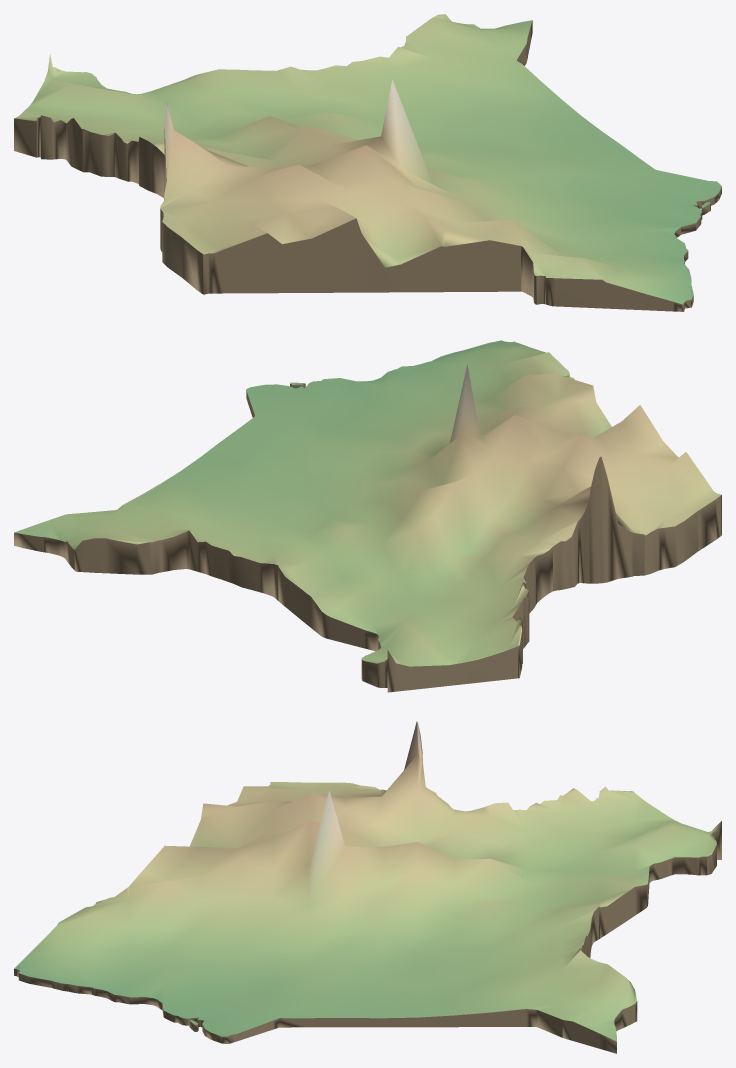
File: KEN.glb
The picture shows the model from 3 angles, top to bottom: view 1: azimuth 30°, elevation 25°; view 2: azimuth 150°, elevation 25°; view 3: azimuth 270°, elevation 25°; orthographic projection. The views are drawn at different scales.
Visible parts, largest first — view 1: KEN; view 2: KEN; view 3: KEN.
Boxes of the visible parts, <box> form: KEN: <box>14,14,721,311</box>; KEN: <box>14,340,721,692</box>; KEN: <box>14,721,721,1053</box>.
Bounding box in the file's own units: 1.31 × 0.338 × 1.67.
